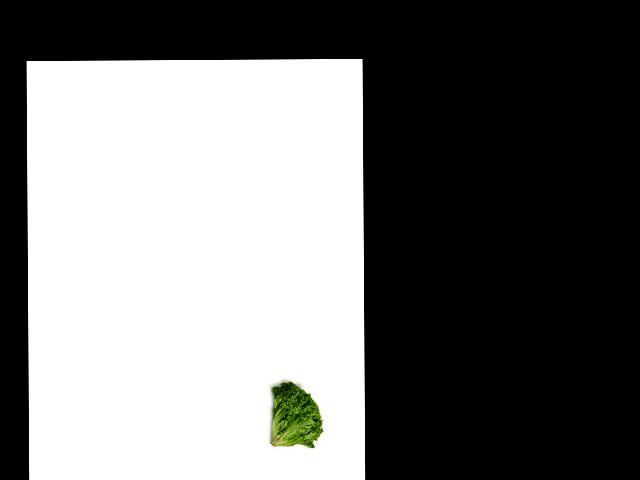lettuce: (264, 378, 326, 450)
